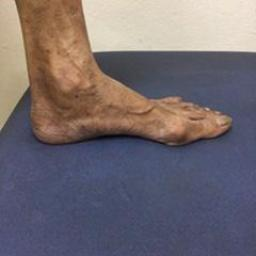Medial View -Left Foot-: (19, 43, 235, 164)
